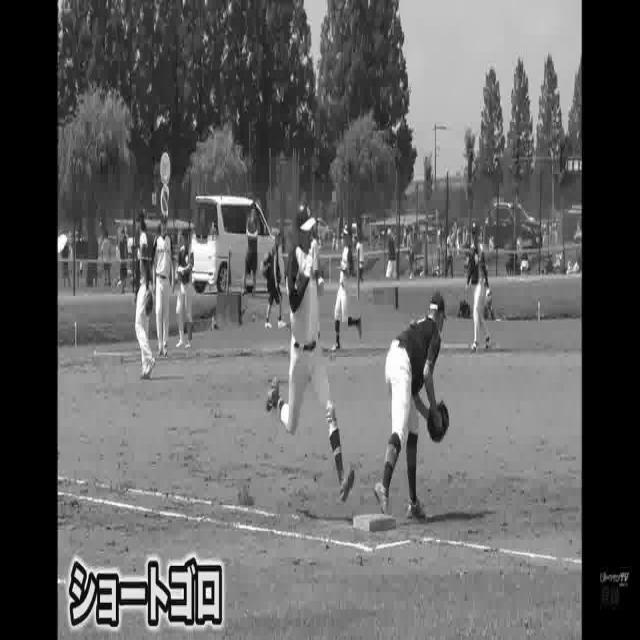base: (352, 514, 398, 534)
baseball_glove: (427, 400, 450, 450), (143, 294, 154, 316)
shoe: (371, 480, 394, 518), (407, 495, 429, 531), (266, 376, 282, 419), (138, 351, 158, 385), (339, 465, 353, 508)
